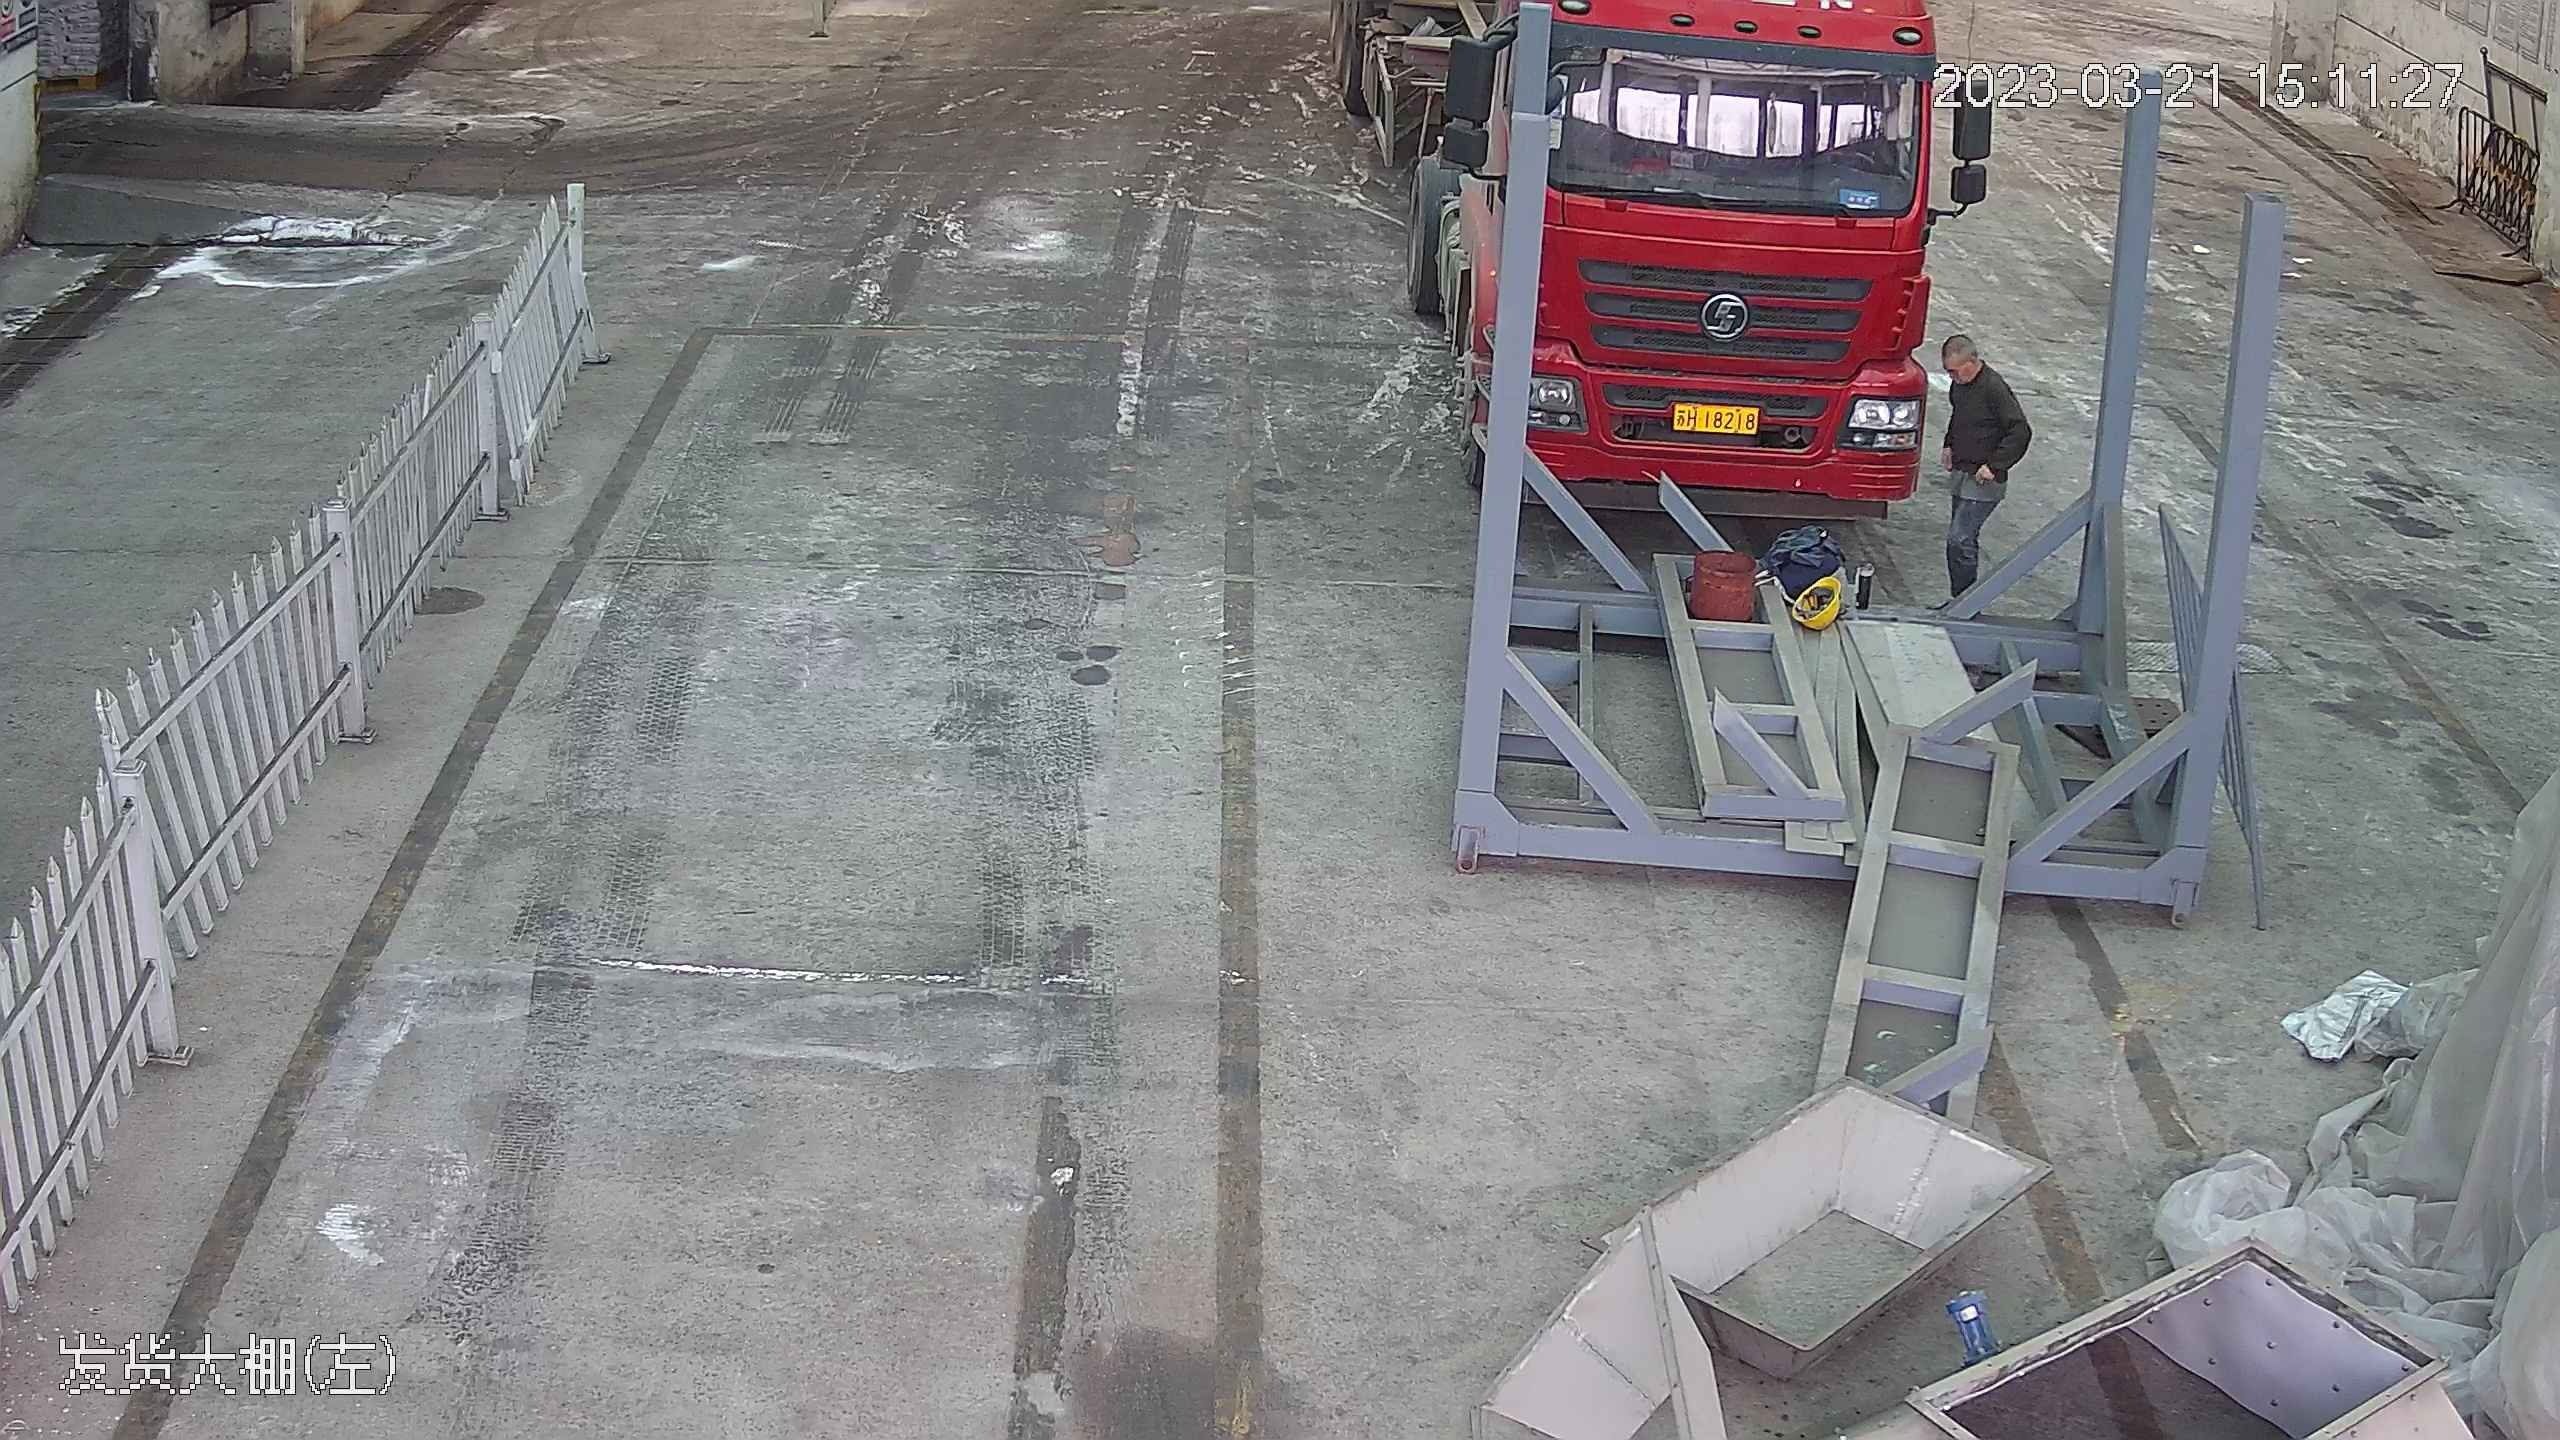head: (1935, 332, 2012, 412)
people: (1936, 335, 2027, 601)
truck: (1430, 1, 1977, 493)
